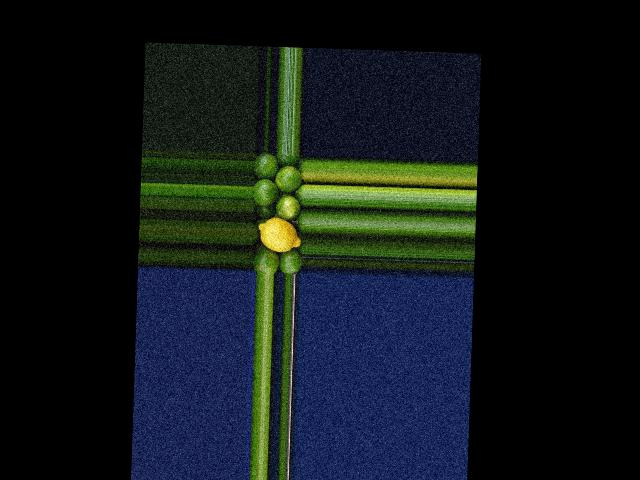lemon: (257, 216, 301, 253)
